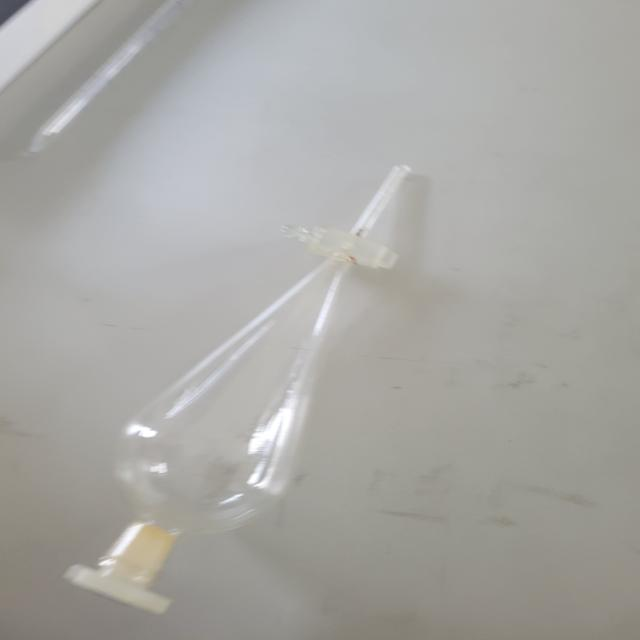Separating_Funnel: (53, 59, 490, 640)
